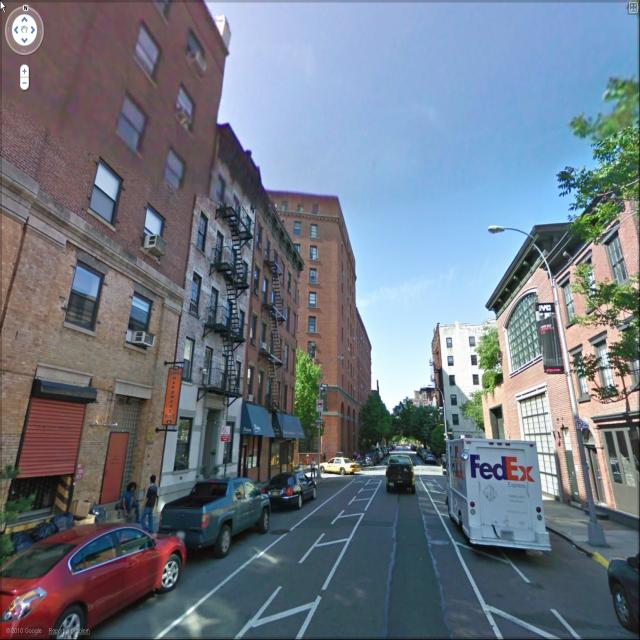b_1: (1, 0, 218, 512), (162, 142, 259, 488), (252, 187, 304, 481), (427, 316, 503, 436)
b_2: (488, 164, 640, 521), (299, 192, 375, 451)
